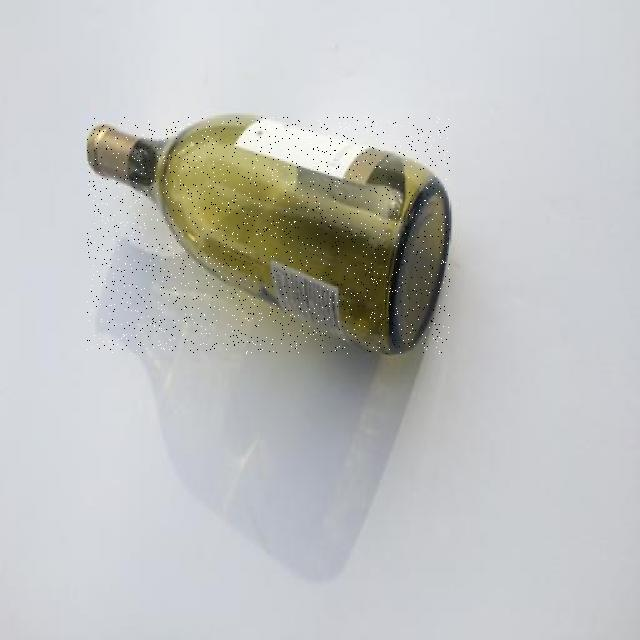glass: (87, 117, 450, 353)
